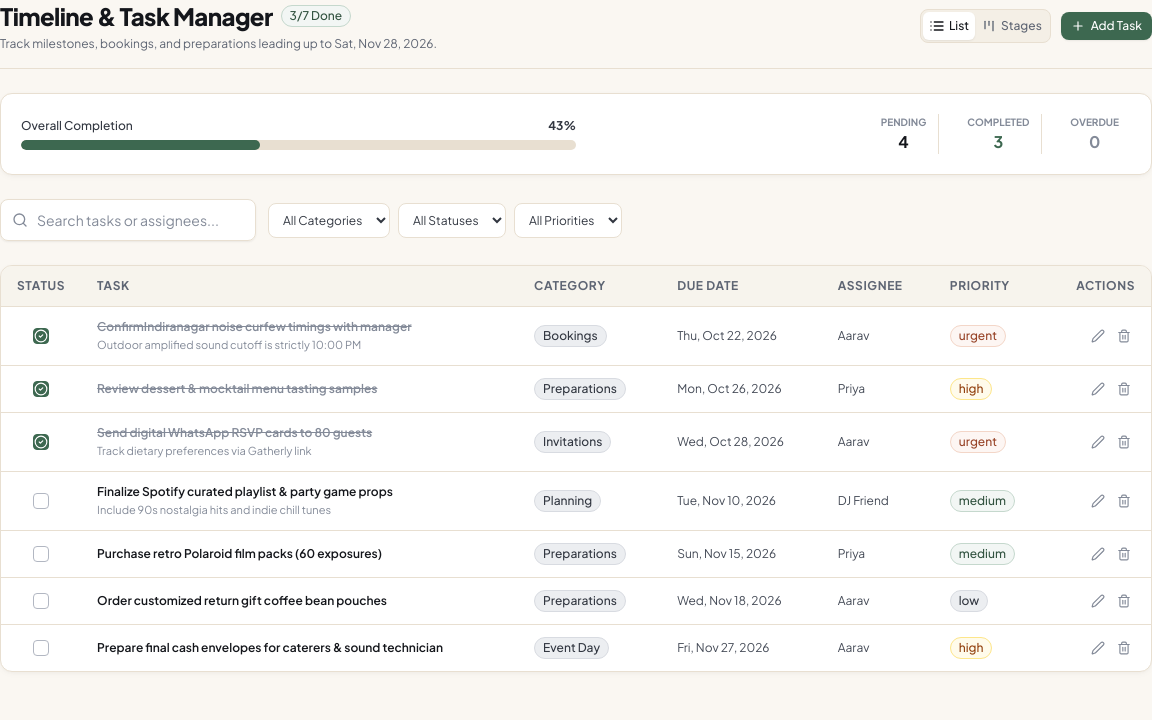
Scenario: TasksPage Feature Tests › switches between List View and Kanban Stages View
Note: Click Board/Stages View
Click the button titled "Board View" at (1011, 26), box [975,12,1048,40]
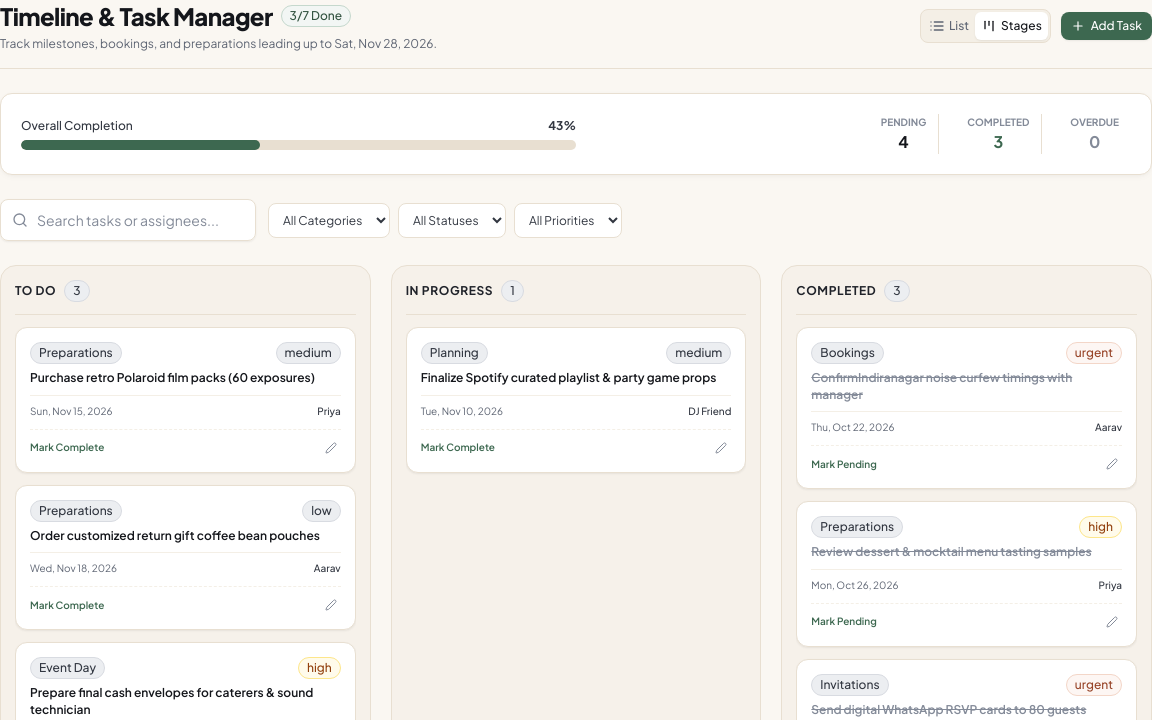
expect the text "Completed" next to "Overdue" is shown: met, box [967,116,1029,128]
expect the text "To Do" is shown: met, box [15,283,56,299]
Note: Switch back to List View
Click the button titled "List View" at (949, 26), box [923,12,975,40]
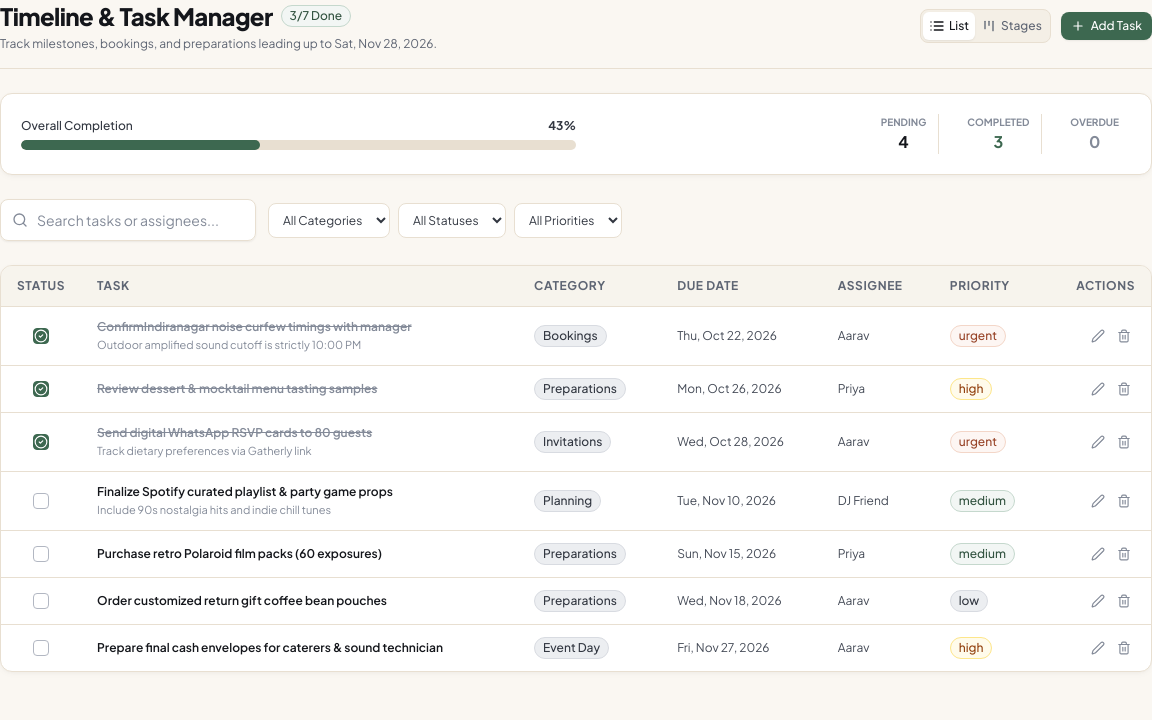
expect the table is shown: met, box [1,266,1151,671]
